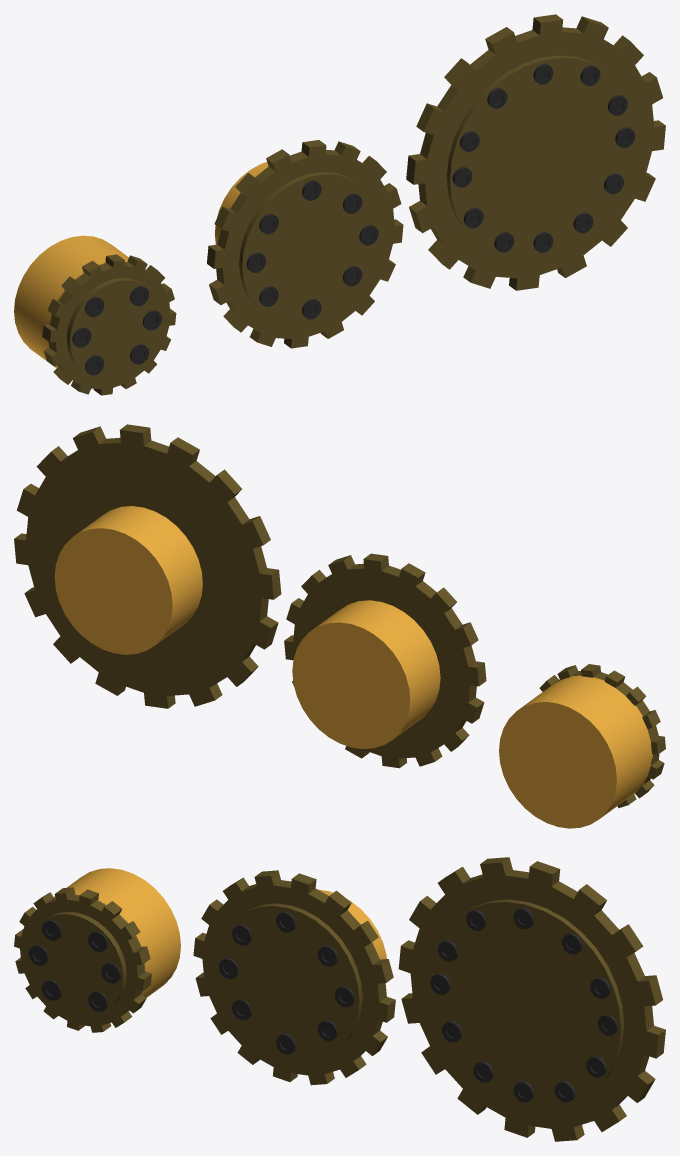
File: Pasta_Machine.fbx
The picture shows the model from 3 angles, top to bottom: view 1: azimuth 30°, elevation 25°; view 2: azimuth 150°, elevation 25°; view 3: azimuth 330°, elevation 25°; orthographic projection. The views are drawn at different scales.
Visible parts, largest first — view 1: Cylinder.005, Cylinder.003, Cylinder.001, Circle, Circle.011, Circle.008, Circle.007, Circle.006, Circle.009, Circle.010, Circle.002, Circle.003 (+2 smaller); view 2: Cylinder.005, Cylinder.003, Cylinder.001; view 3: Cylinder.005, Cylinder.003, Cylinder.001, Circle, Circle.007, Circle.008, Circle.010, Circle.006, Circle.011, Circle.009, Circle.003, Circle.005 (+2 smaller).
Part boxes in pixels (<box>): Cylinder.005: <box>406,14,665,290</box>; Cylinder.003: <box>207,140,403,348</box>; Cylinder.001: <box>14,235,176,395</box>; Circle: <box>85,286,149,375</box>; Circle.011: <box>487,65,600,108</box>; Circle.008: <box>494,212,593,252</box>; Circle.007: <box>463,173,623,228</box>; Circle.006: <box>452,127,635,187</box>; Circle.009: <box>533,64,553,252</box>; Circle.010: <box>460,95,627,151</box>; Circle.002: <box>302,180,321,319</box>; Circle.003: <box>342,193,362,286</box>; Cylinder.005: <box>14,424,281,708</box>; Cylinder.003: <box>284,553,486,768</box>; Cylinder.001: <box>499,664,665,828</box>; Cylinder.005: <box>398,857,665,1141</box>; Cylinder.003: <box>193,870,395,1085</box>; Cylinder.001: <box>14,868,180,1032</box>; Circle: <box>42,920,107,1011</box>; Circle.007: <box>442,1021,606,1077</box>; Circle.008: <box>473,1061,575,1102</box>; Circle.010: <box>438,940,610,998</box>; Circle.006: <box>430,973,618,1035</box>; Circle.011: <box>466,909,582,954</box>; Circle.009: <box>513,908,533,1102</box>; Circle.003: <box>318,945,337,1041</box>; Circle.005: <box>232,924,251,1020</box>.
Bounding box in the file's own units: 1083 × 444 × 140.
